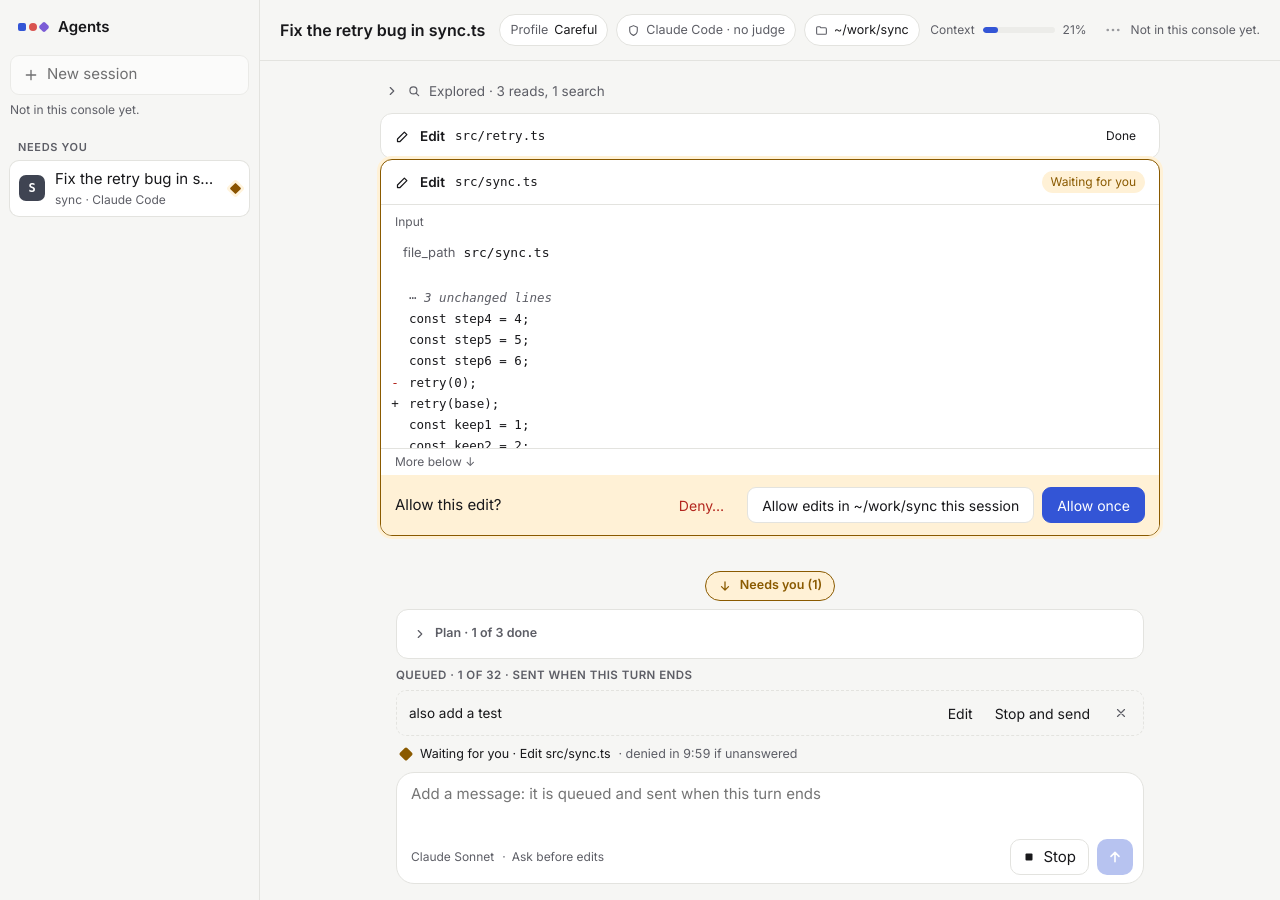
Test: adv S23 fix10 › adv_S23_fix10_refused_deny_pulls_focus_from_the_composer
The image size is (1280, 900).
(page scrolled)
Expected: the button "Needs you (1)" is shown, [705,571,835,601]
Click the button "Deny…" at (702, 505), box [664,487,739,523]
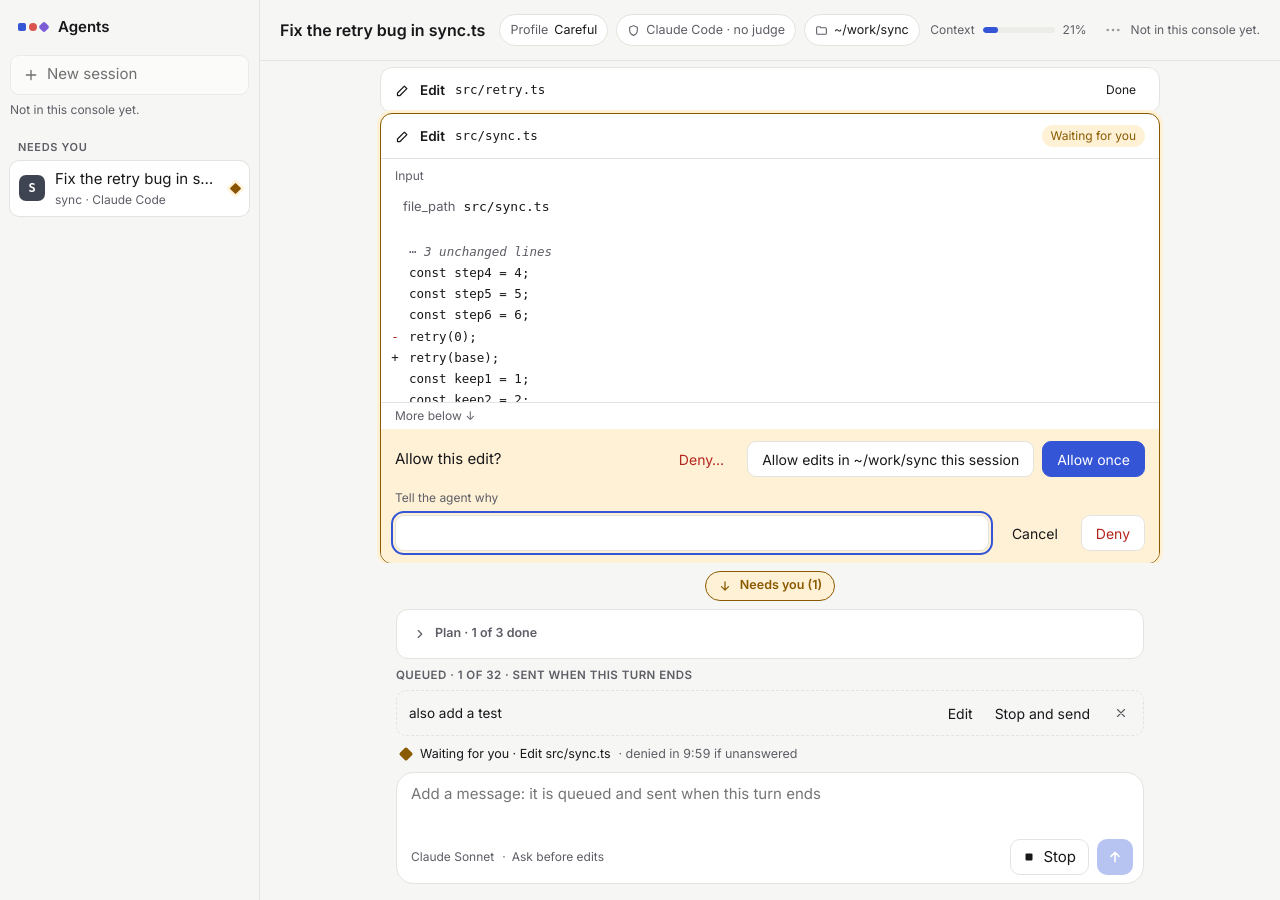
Type keys "not this one{Enter}"
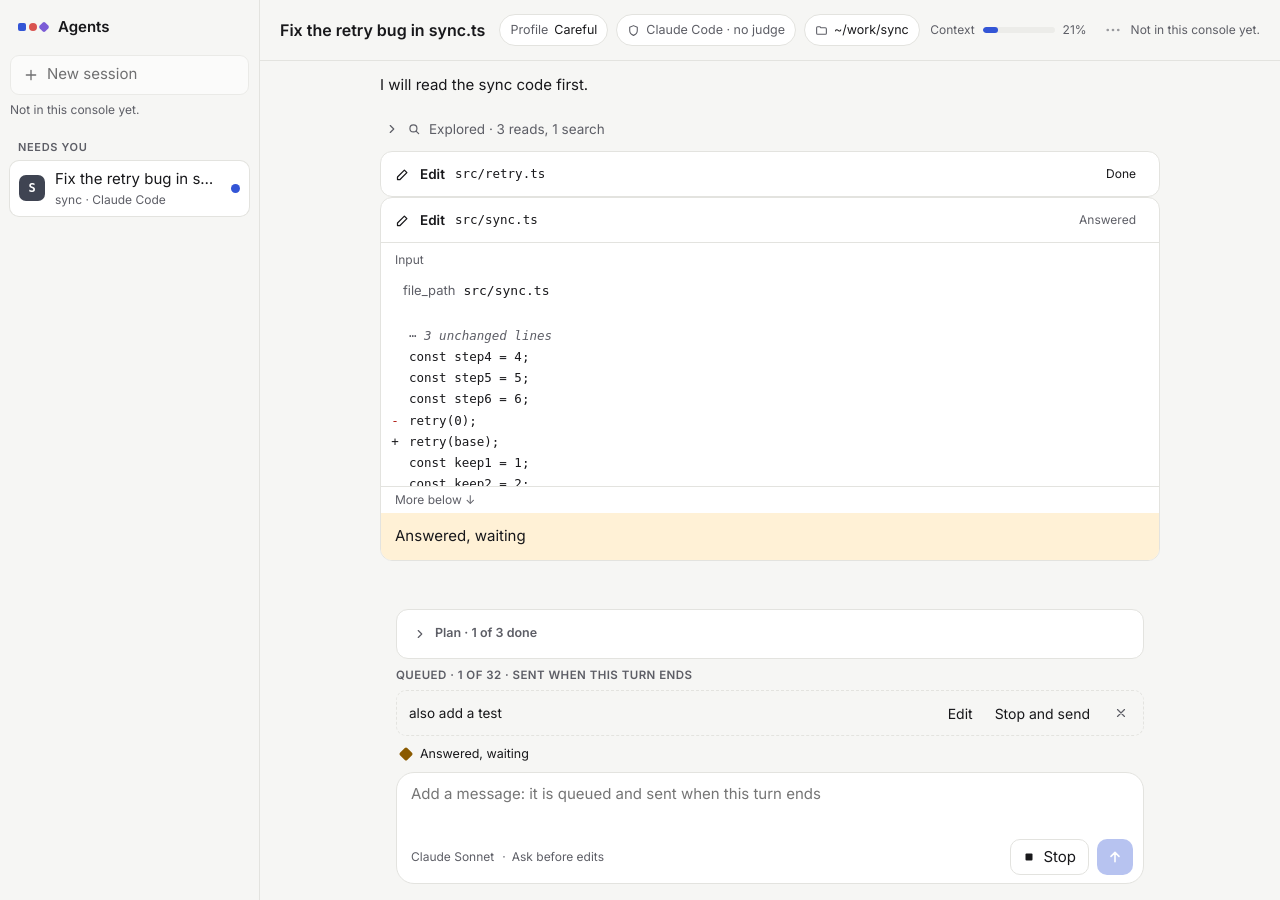
Expected: the message "Answered, waiting" below "const keep3 = 3;" is shown, [395,526,526,545]
Click the text box labelled "message" at (772, 807), box [411,783,1133,831]
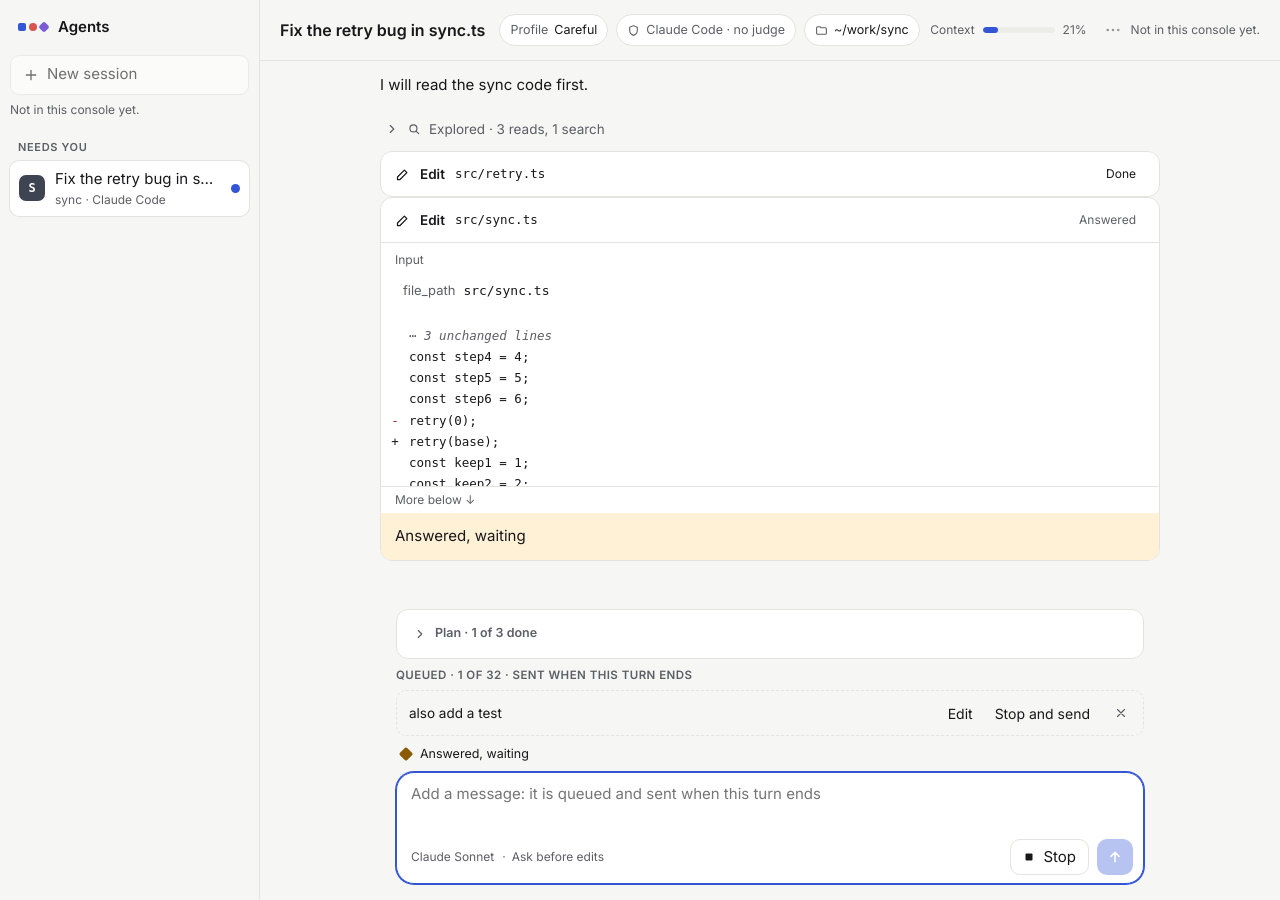
Type keys "keep"
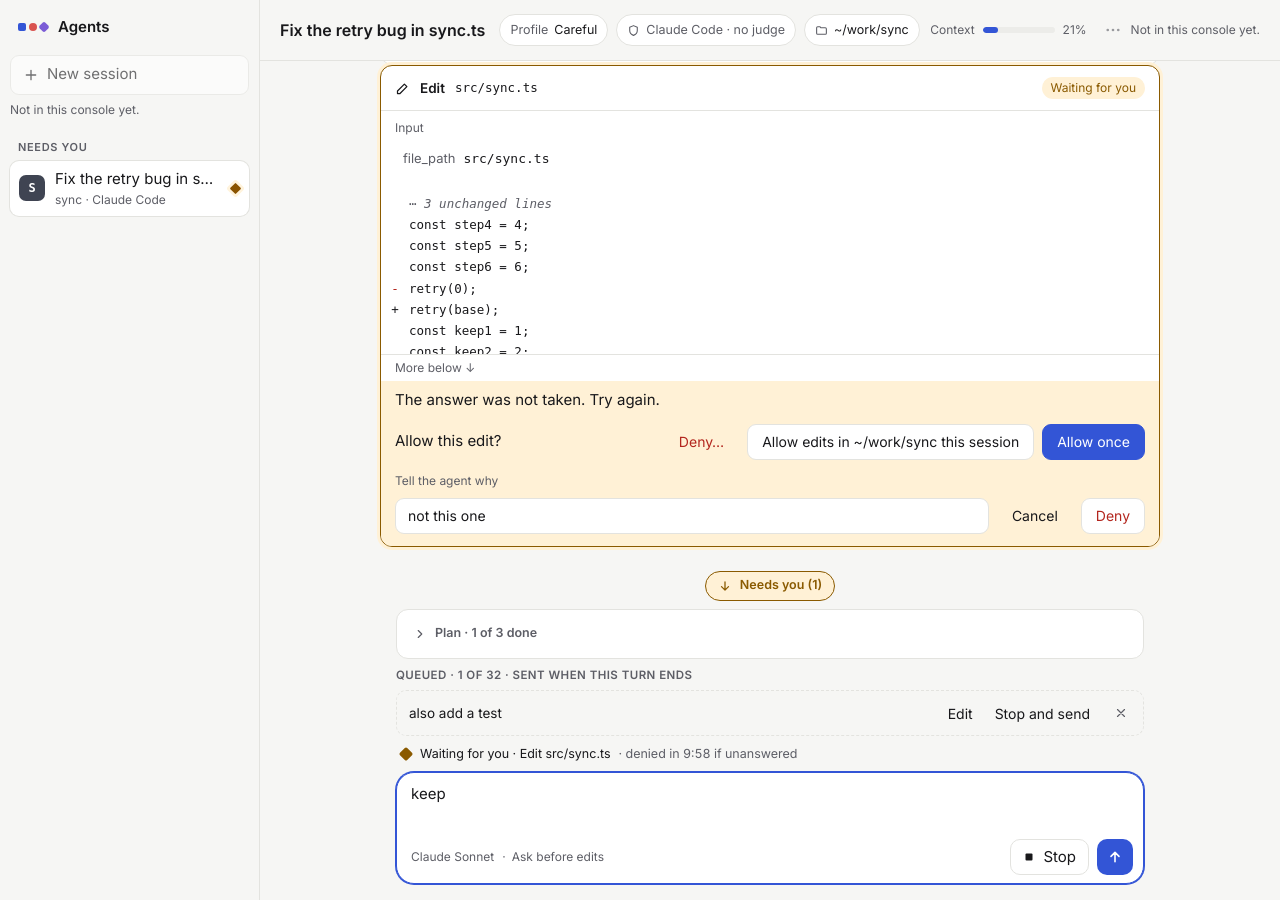
Expected: the message "The answer was not taken. Try again." is shown, [381,381,1159,412]
